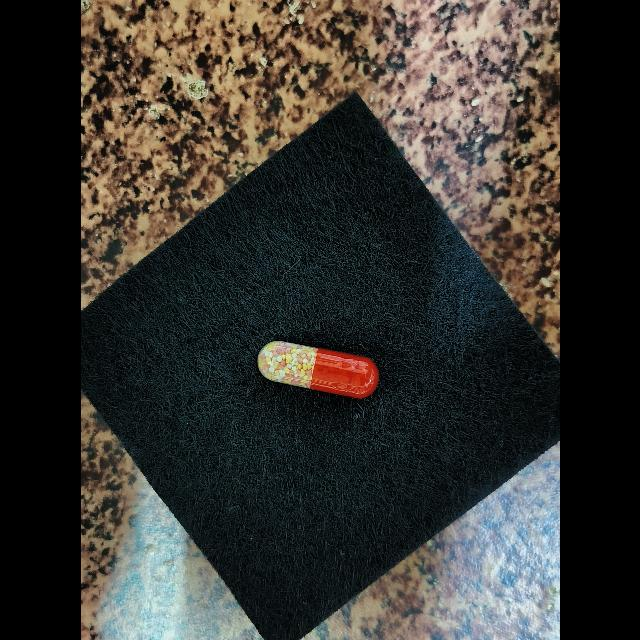Intact Capsule: (257, 341, 379, 398)
